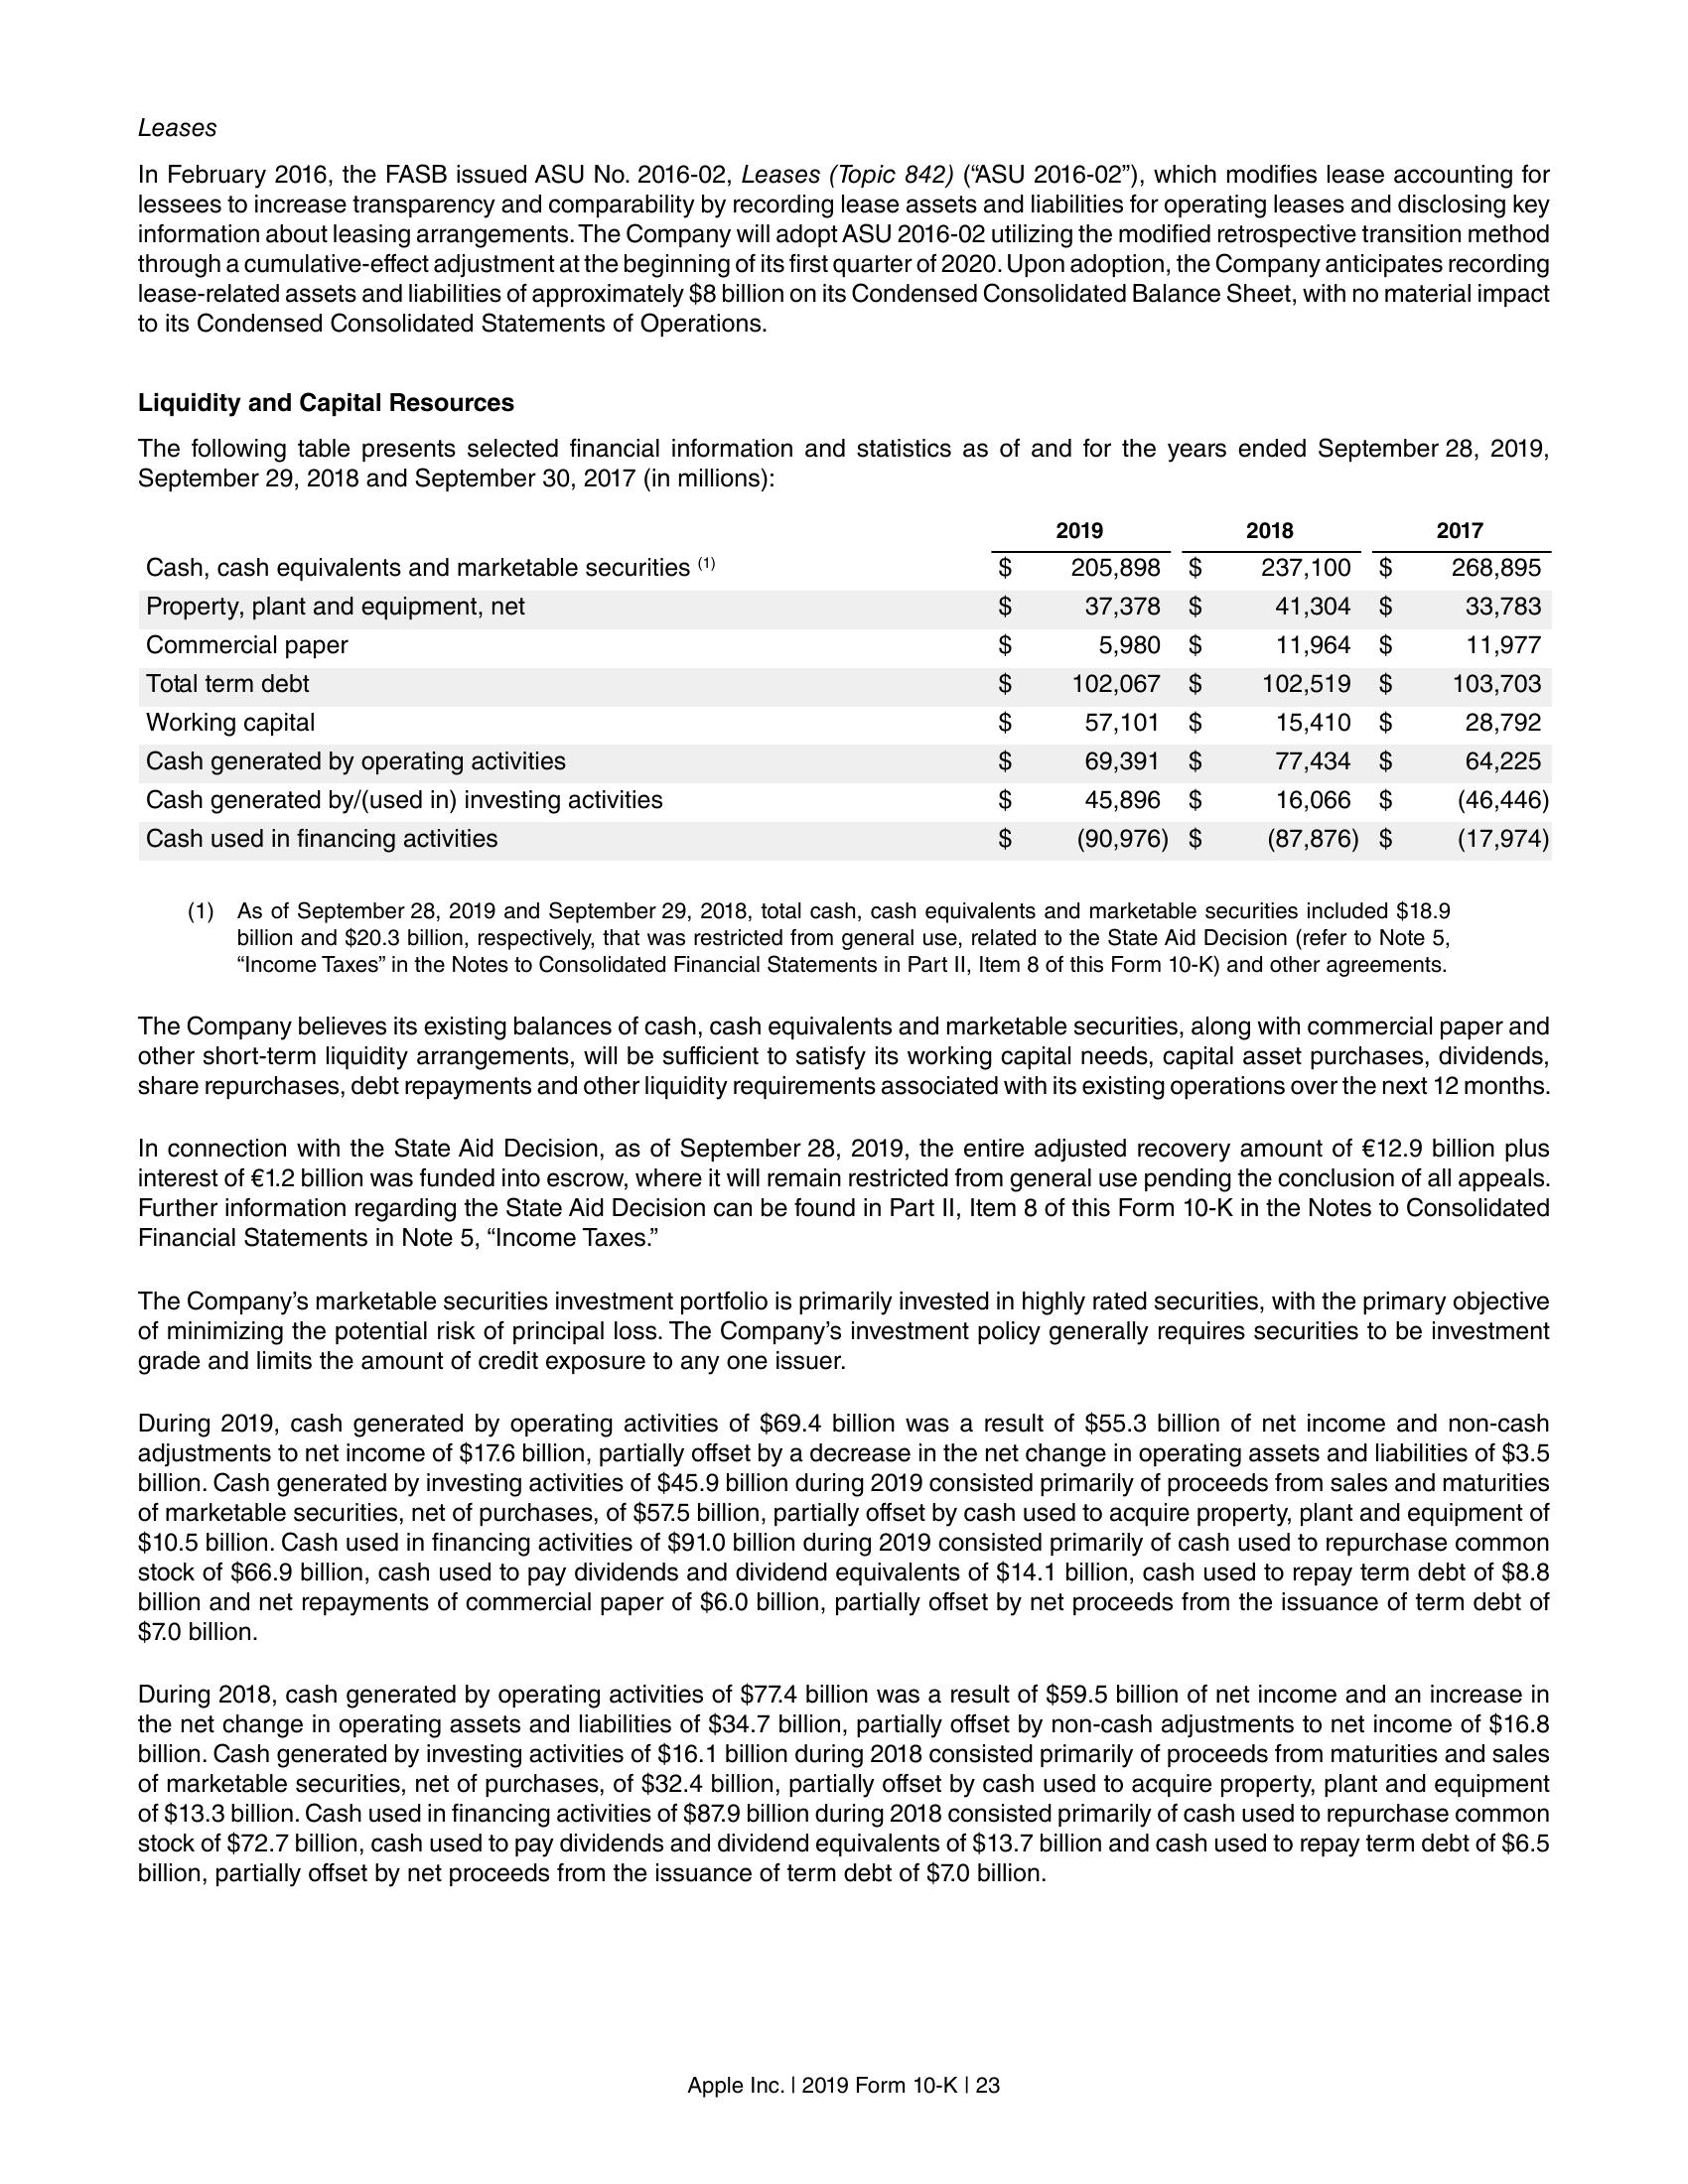table: (142, 518, 1560, 862)
